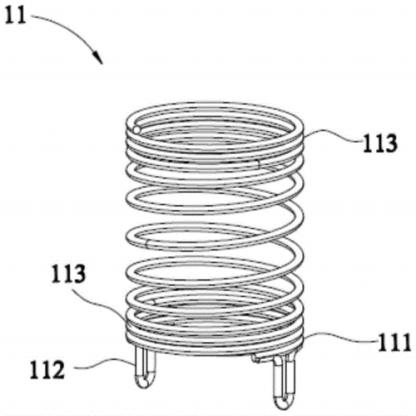FOD: (122, 97, 309, 408)
